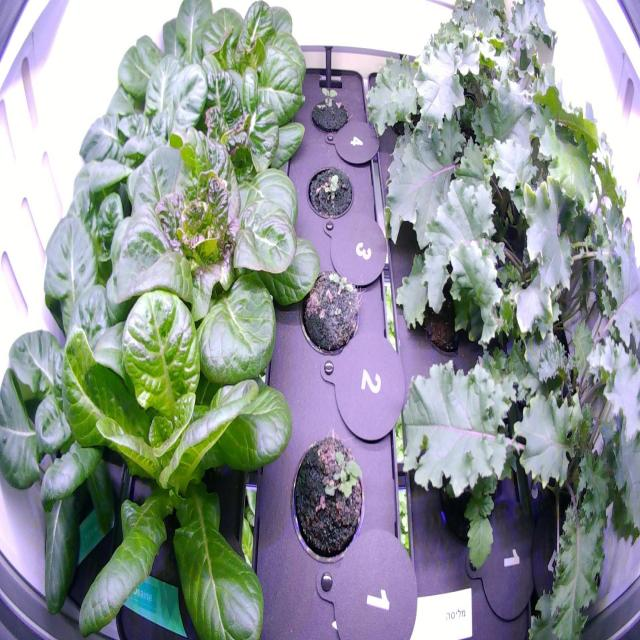Ready: (47, 268, 299, 635), (94, 120, 322, 397), (161, 51, 316, 196), (180, 0, 312, 131)
young: (0, 210, 173, 624), (32, 130, 164, 348), (75, 44, 211, 183), (113, 1, 222, 117)
